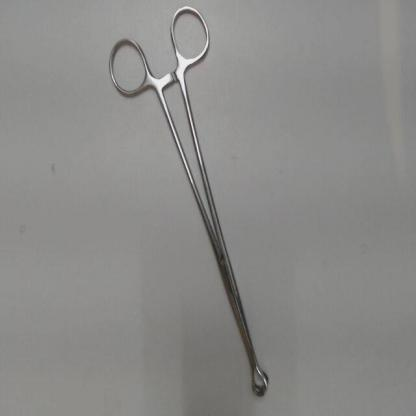8 Babcock Tissue Forceps: (104, 1, 276, 404)
